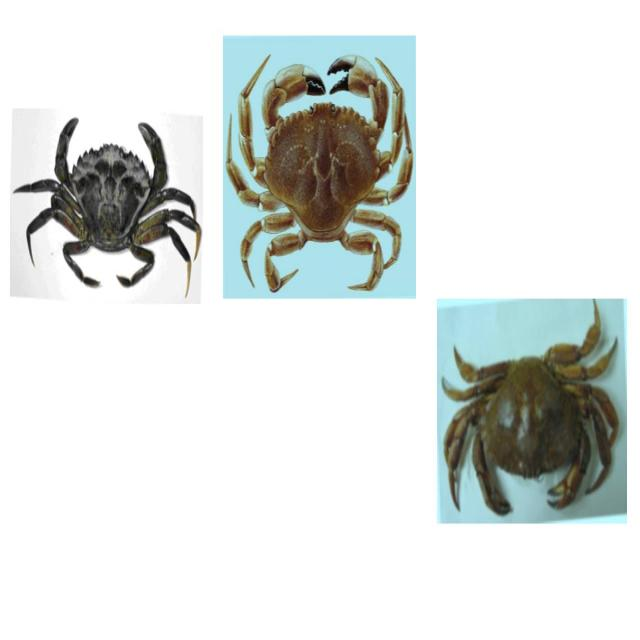egc: (9, 109, 203, 305)
jonah_crab: (223, 37, 414, 294)
rock_crab: (442, 302, 621, 517)
